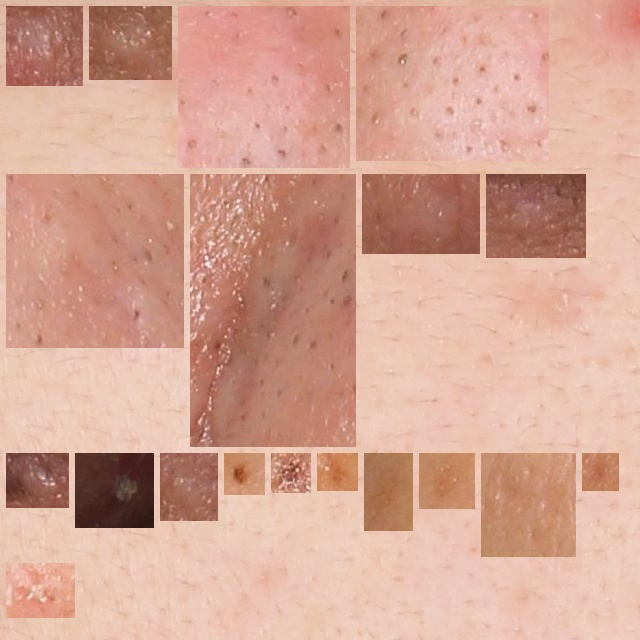hypertrophic_scar: (198, 182, 348, 439), (14, 182, 176, 340), (364, 14, 541, 153), (186, 14, 342, 160), (370, 182, 472, 246), (494, 182, 578, 250), (14, 14, 75, 78), (97, 14, 164, 72), (168, 461, 210, 513), (14, 461, 61, 500)
melasma: (489, 461, 568, 549), (372, 461, 405, 523), (427, 461, 467, 501)
nevus: (232, 461, 257, 487), (279, 461, 303, 485), (325, 461, 350, 483)
pustule: (83, 461, 146, 520), (14, 571, 67, 610)
